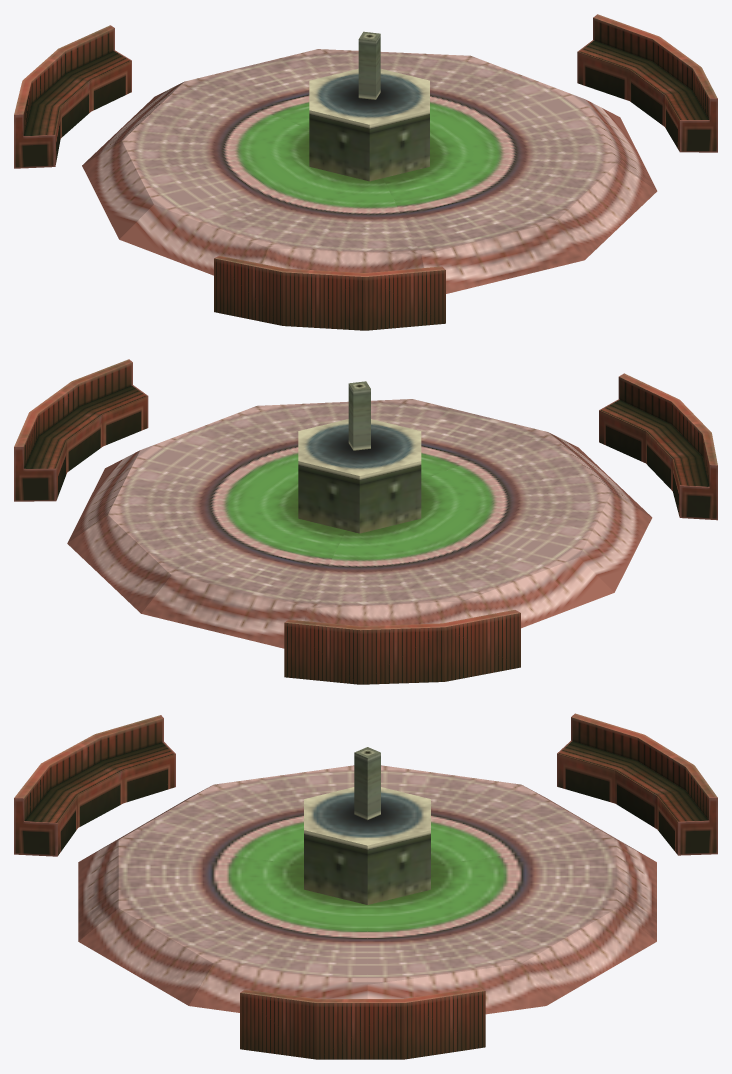
File: Fountain.fbx
3 views of the same model, one above another, from view 1: azimuth 30°, elevation 25°; view 2: azimuth 150°, elevation 25°; view 3: azimuth 270°, elevation 25° (orthographic). The views are drawn at different scales.
Parts seen in each view (by area): view 1: fountain:fountain; view 2: fountain:fountain; view 3: fountain:fountain.
Part boxes in pixels (x1,y1,x2,y2): fountain:fountain: (14,14,717,330); fountain:fountain: (14,359,717,684); fountain:fountain: (14,713,717,1059).
Size of the model in its own units: 6.63 by 1.6 by 6.81.
